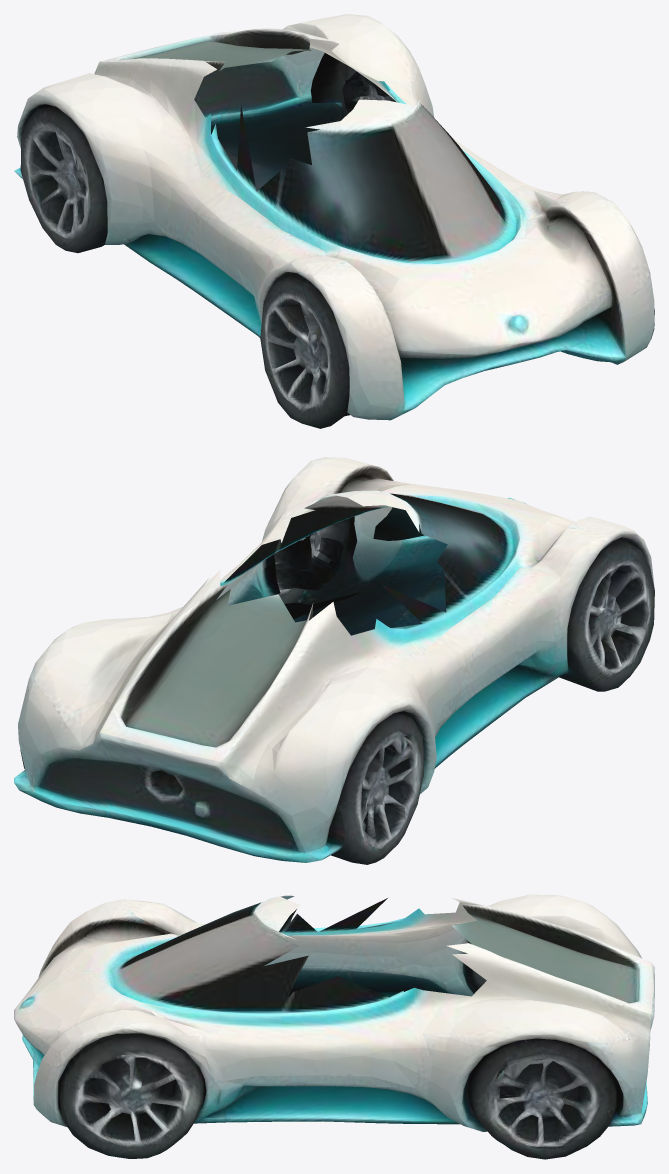
The model's file is electric.glb.
3 renders of one model, top to bottom at view 1: azimuth 30°, elevation 25°; view 2: azimuth 150°, elevation 25°; view 3: azimuth 270°, elevation 25°, orthographic. The views are drawn at different scales.
Visible parts, largest first — view 1: model; view 2: model; view 3: model.
Boxes of the visible parts, <box> form: model: <box>14,14,654,428</box>; model: <box>14,457,654,864</box>; model: <box>14,894,654,1159</box>.
Bounding box in the file's own units: 1.53 × 0.9353 × 2.9.
Materials: 1 (1 with a texture image).
